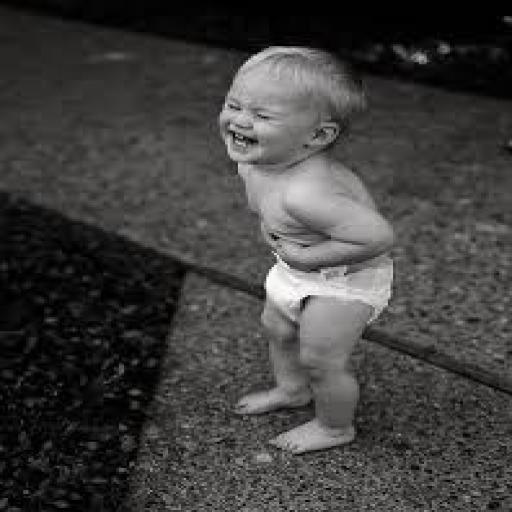laughing: (199, 38, 406, 458)
